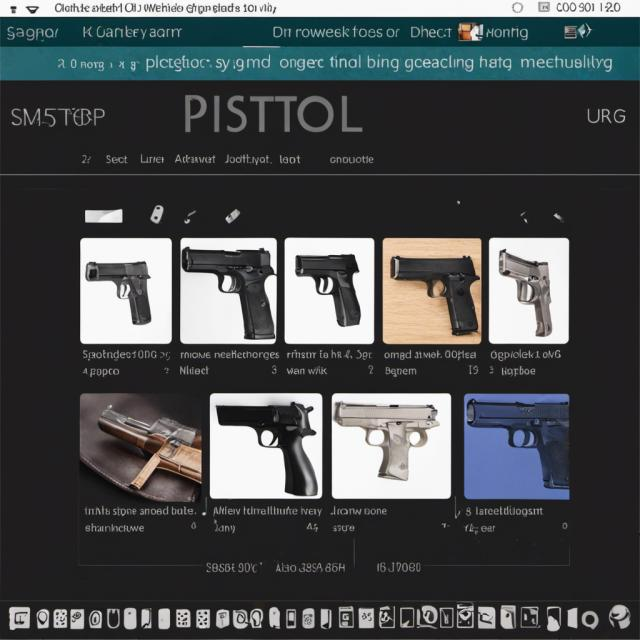gun: (465, 396, 572, 489), (219, 402, 320, 494), (184, 244, 277, 337), (336, 399, 439, 479), (392, 256, 480, 336), (298, 252, 364, 332), (502, 247, 556, 336), (86, 259, 152, 323)
